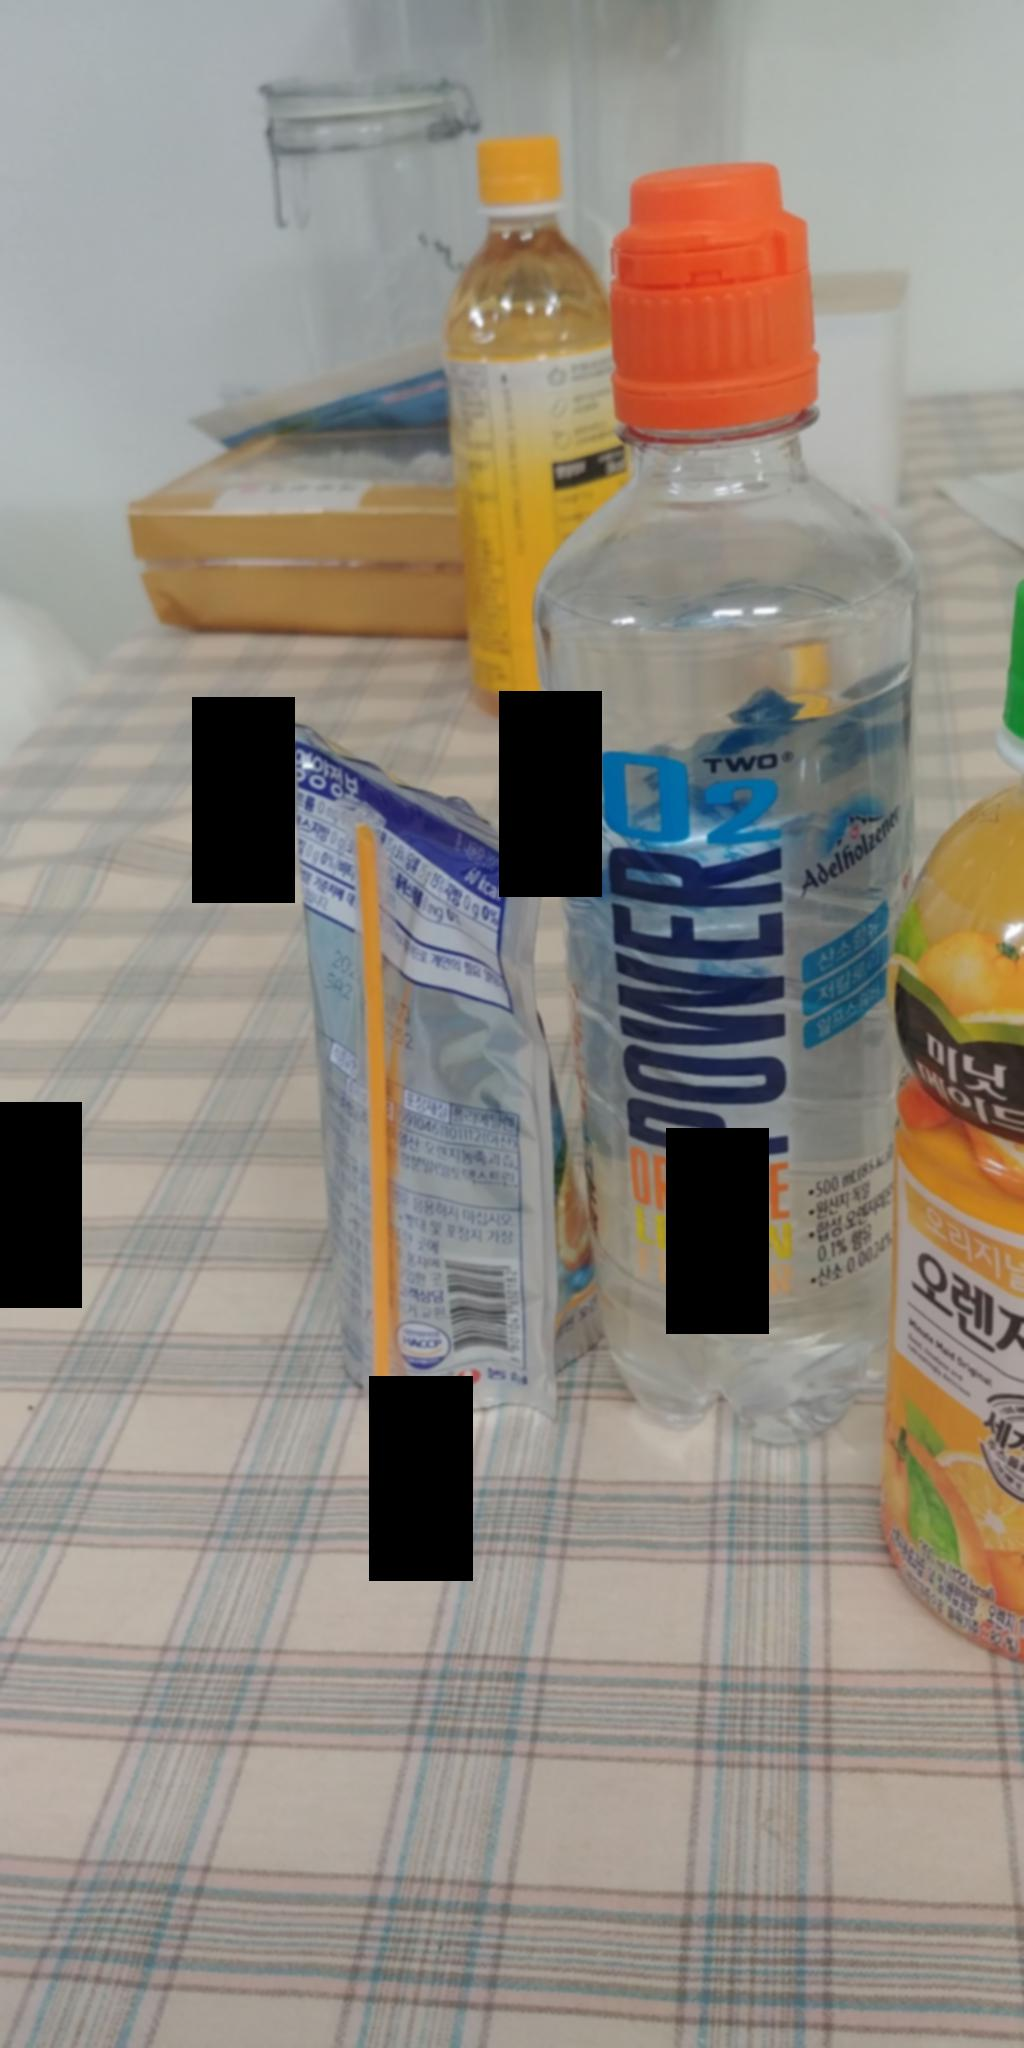cafrisun: (225, 687, 619, 1463)
minutemaid_org_orange: (876, 556, 1023, 1678)
powerO2_orange: (530, 135, 927, 1448)
